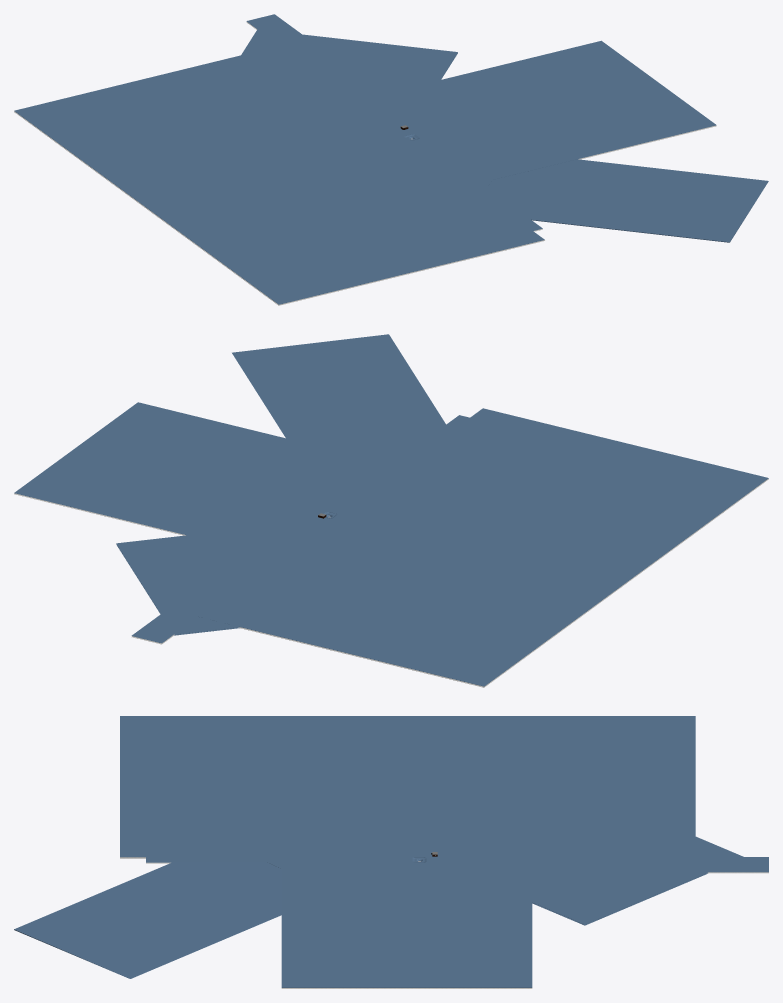
The model's file is rec_room_-_backstage_of_reality_level_7.glb.
3 renders of one model, top to bottom at view 1: azimuth 30°, elevation 25°; view 2: azimuth 150°, elevation 25°; view 3: azimuth 270°, elevation 25°, orthographic. The views are drawn at different scales.
Visible parts, largest first — view 1: Shape_RR_Box_6e4b2c343584429e9d4ae1bae319c20d_165, Shape_RR_Box_baee952601924217bd2669e67d022196_130, Shape_RR_Wedge_70594fd126324db7b8ec4526167dd567_163, Shape_RR_Box_2a316d82bee540bd82b17caec7f6897e_171, Shape_RR_Box_08b0ac6461d5416396cdb48aae1b54a2_164, Shape_RR_Box_5c173cbdda6b4d43a10221a6aef50858_166, Shape_RR_Box_64a6c349fb7548d5a8bff910619e566f_129; view 2: Shape_RR_Box_6e4b2c343584429e9d4ae1bae319c20d_165, Shape_RR_Box_baee952601924217bd2669e67d022196_130, Shape_RR_Wedge_70594fd126324db7b8ec4526167dd567_163, Shape_RR_Box_2a316d82bee540bd82b17caec7f6897e_171, Shape_RR_Box_08b0ac6461d5416396cdb48aae1b54a2_164, Shape_RR_Box_5c173cbdda6b4d43a10221a6aef50858_166, Shape_RR_Box_64a6c349fb7548d5a8bff910619e566f_129; view 3: Shape_RR_Box_6e4b2c343584429e9d4ae1bae319c20d_165, Shape_RR_Box_baee952601924217bd2669e67d022196_130, Shape_RR_Wedge_70594fd126324db7b8ec4526167dd567_163, Shape_RR_Box_2a316d82bee540bd82b17caec7f6897e_171, Shape_RR_Box_08b0ac6461d5416396cdb48aae1b54a2_164, Shape_RR_Box_64a6c349fb7548d5a8bff910619e566f_129.
Boxes of the visible parts, left/top/right/bottom form: Shape_RR_Box_6e4b2c343584429e9d4ae1bae319c20d_165: left=14, top=46, right=544, bottom=304; Shape_RR_Box_baee952601924217bd2669e67d022196_130: left=409, top=40, right=716, bottom=182; Shape_RR_Wedge_70594fd126324db7b8ec4526167dd567_163: left=487, top=159, right=768, bottom=242; Shape_RR_Box_2a316d82bee540bd82b17caec7f6897e_171: left=241, top=29, right=457, bottom=136; Shape_RR_Box_08b0ac6461d5416396cdb48aae1b54a2_164: left=410, top=139, right=542, bottom=230; Shape_RR_Box_5c173cbdda6b4d43a10221a6aef50858_166: left=14, top=111, right=544, bottom=305; Shape_RR_Box_64a6c349fb7548d5a8bff910619e566f_129: left=246, top=14, right=413, bottom=136; Shape_RR_Box_6e4b2c343584429e9d4ae1bae319c20d_165: left=198, top=408, right=768, bottom=686; Shape_RR_Box_baee952601924217bd2669e67d022196_130: left=14, top=402, right=390, bottom=535; Shape_RR_Wedge_70594fd126324db7b8ec4526167dd567_163: left=232, top=334, right=445, bottom=460; Shape_RR_Box_2a316d82bee540bd82b17caec7f6897e_171: left=116, top=519, right=330, bottom=634; Shape_RR_Box_08b0ac6461d5416396cdb48aae1b54a2_164: left=328, top=415, right=469, bottom=513; Shape_RR_Box_5c173cbdda6b4d43a10221a6aef50858_166: left=238, top=479, right=768, bottom=687; Shape_RR_Box_64a6c349fb7548d5a8bff910619e566f_129: left=131, top=517, right=329, bottom=643; Shape_RR_Box_6e4b2c343584429e9d4ae1bae319c20d_165: left=120, top=716, right=695, bottom=857; Shape_RR_Box_baee952601924217bd2669e67d022196_130: left=281, top=862, right=532, bottom=987; Shape_RR_Wedge_70594fd126324db7b8ec4526167dd567_163: left=14, top=862, right=281, bottom=978; Shape_RR_Box_2a316d82bee540bd82b17caec7f6897e_171: left=425, top=836, right=743, bottom=924; Shape_RR_Box_08b0ac6461d5416396cdb48aae1b54a2_164: left=146, top=857, right=412, bottom=862; Shape_RR_Box_64a6c349fb7548d5a8bff910619e566f_129: left=426, top=857, right=768, bottom=872.
Size of the model in its own units: 1252 by 67.67 by 1470.
Materials: 34 (30 with a texture image).
